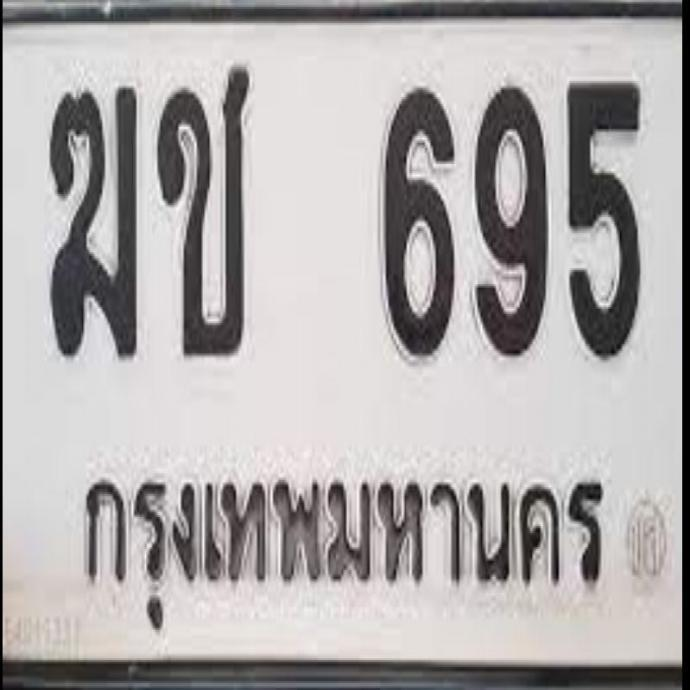5: (566, 77, 641, 360)
6: (381, 85, 455, 361)
9: (472, 80, 547, 359)
A06: (47, 82, 138, 359)
A10: (155, 62, 250, 357)
BKK: (65, 444, 615, 648)
